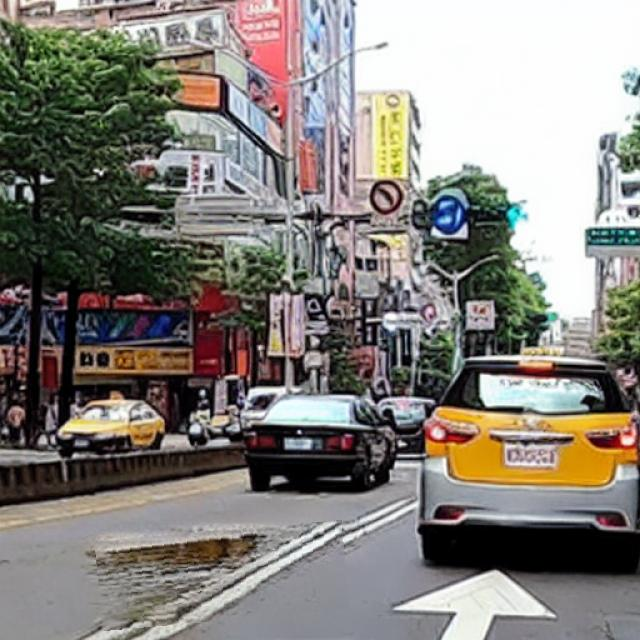puddle: (97, 527, 349, 627)
